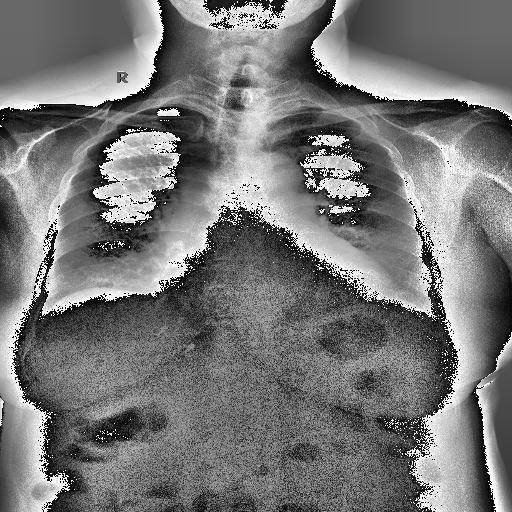0- Aortic enlargement: (236, 144, 314, 206), (243, 155, 313, 211), (237, 152, 308, 204)
3- Cardiomegaly: (146, 252, 406, 318), (152, 246, 398, 303), (150, 261, 400, 311)
